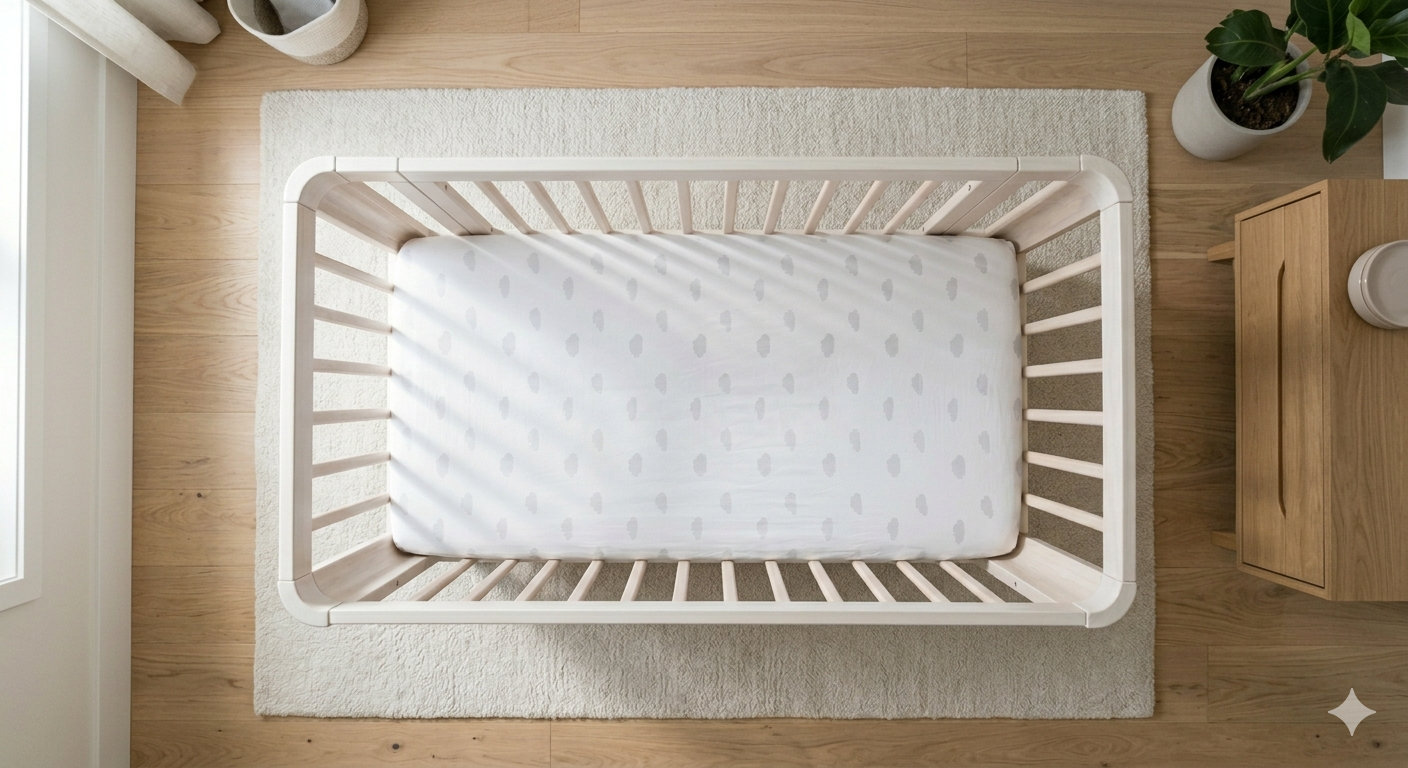crib: (278, 156, 1134, 626)
